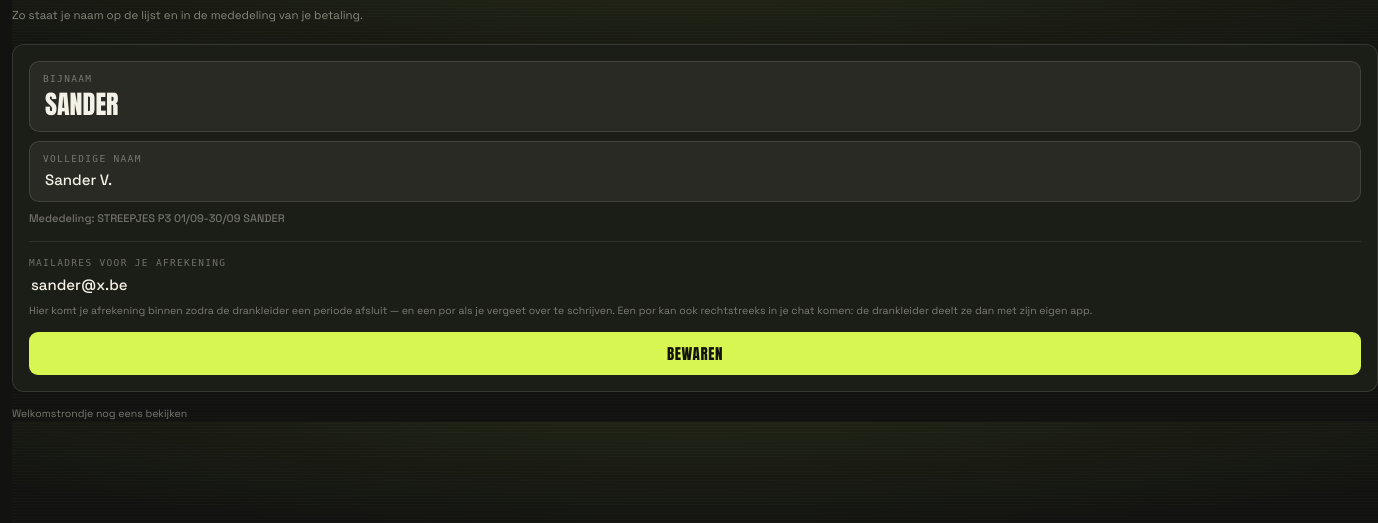
AC5 + AC9: een bijnaam die al bezet is door iemand anders wordt geweigerd, met naam erbij
Step 1. Replace the text in the field showing "Sander" below "BIJNAAM" with "Anton" → (697,105), box [43,89,1351,120]
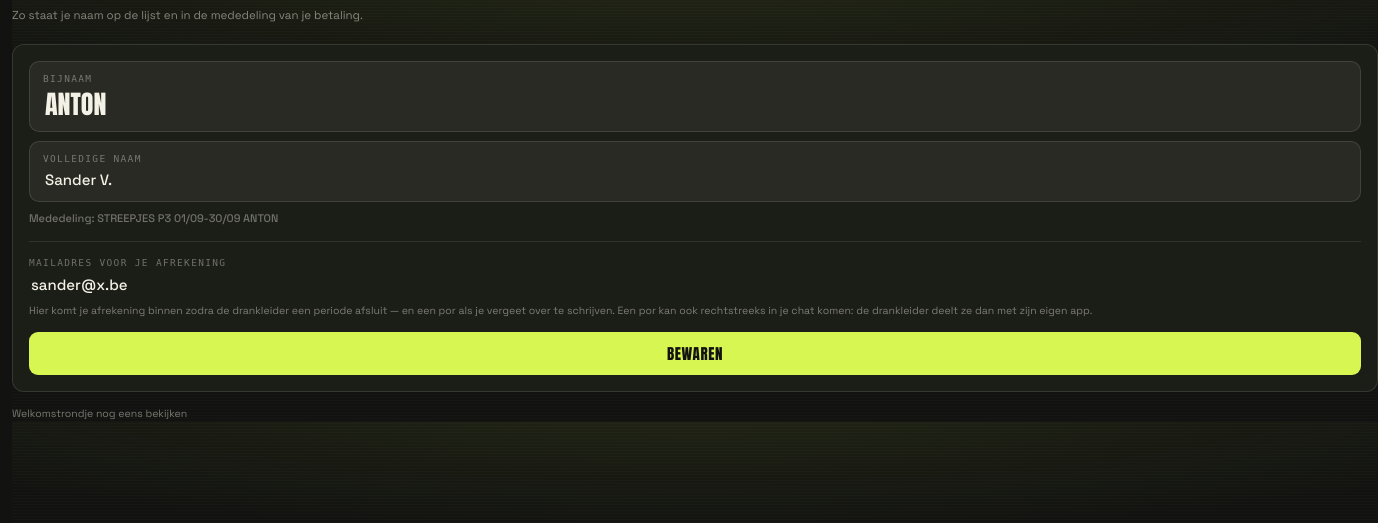
Step 2. Click the text "Bewaren" → (695,354), box [29,332,1361,375]
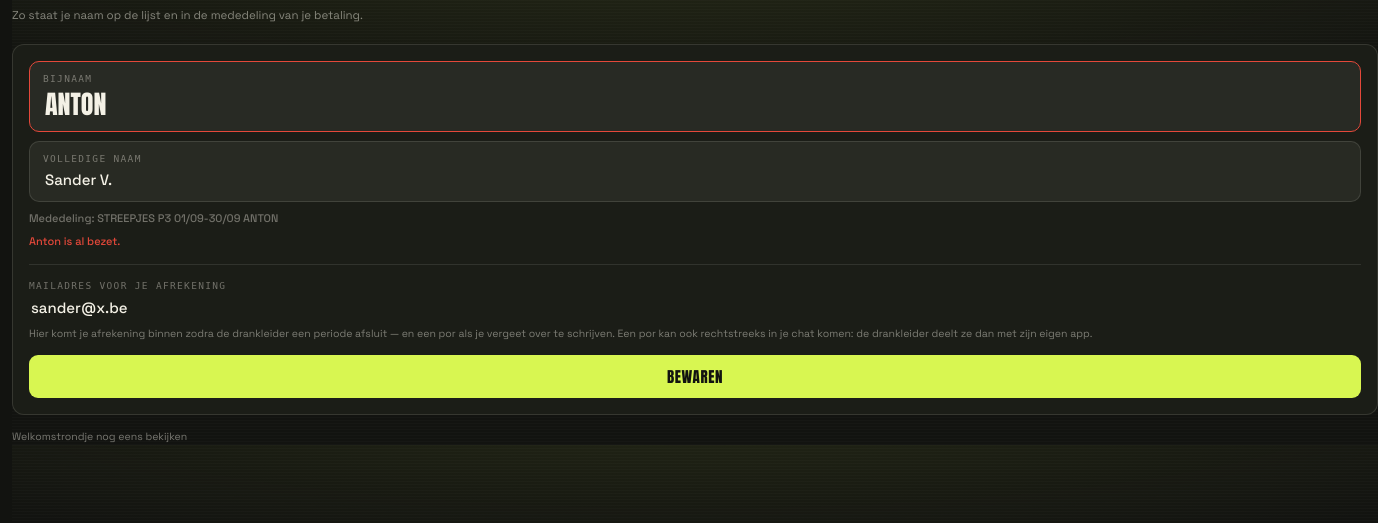
Now the text "Anton is al bezet." is shown, box [29,234,120,248]
